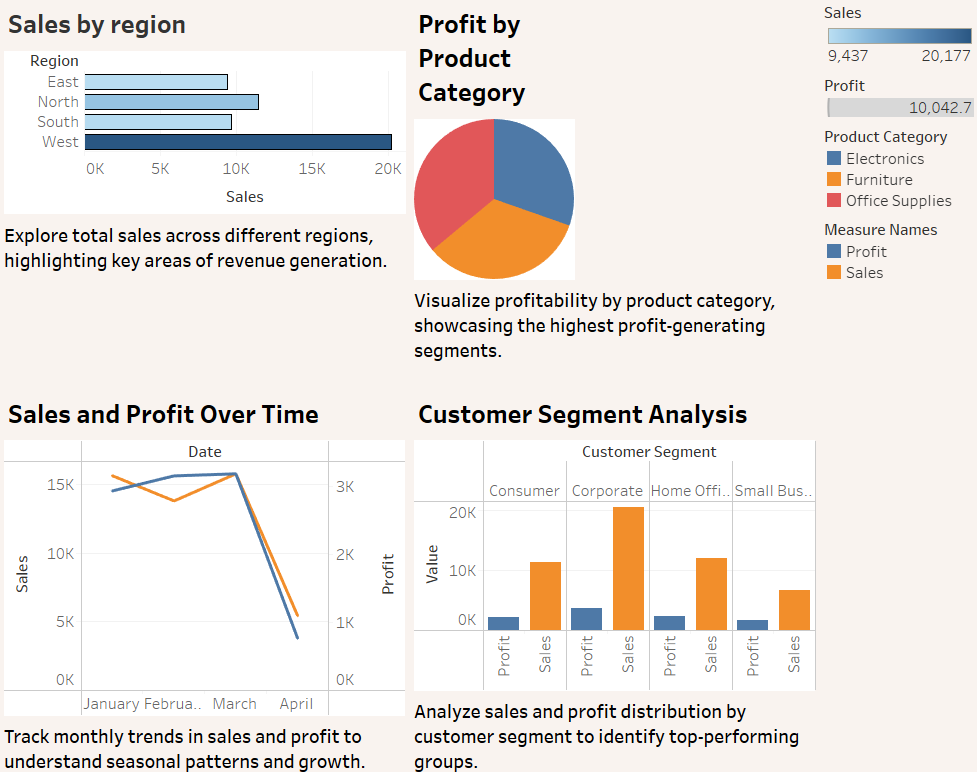

The dashboard page shown, as its layout file describes it:
{"tool":"tableau","page":{"name":"Dashboard 1","canvas":[1000,800],"ordinal":0},"visuals":[{"type":"worksheet","title":"Sheet 1","mark":"Automatic","rows":["Region"],"cols":["Sales"],"box":[8,8,412,392]},{"type":"worksheet","title":"Sheet 2","mark":"Pie","box":[420,8,412,392]},{"type":"legend","title":"Sheet 1","param":"[federated.18z0w2z0rbqrfo18hsgvm13djvns].[sum:Sales:qk]","box":[832,8,160,73]},{"type":"legend","title":"Sheet 2","param":"[federated.18z0w2z0rbqrfo18hsgvm13djvns].[sum:Profit:qk]","box":[832,81,160,51]},{"type":"legend","title":"Sheet 2","param":"[federated.18z0w2z0rbqrfo18hsgvm13djvns].[none:Product Category:nk]","box":[832,132,160,93]},{"type":"legend","title":"Sheet 3","param":"[federated.18z0w2z0rbqrfo18hsgvm13djvns].[:Measure Names]","box":[832,225,160,72]},{"type":"worksheet","title":"Sheet 3","mark":"Line","rows":["Sales","Profit"],"cols":["Date"],"box":[8,400,412,392]},{"type":"worksheet","title":"Sheet 4","mark":"Automatic","cols":["Customer Segment"],"box":[420,400,412,392]}]}

Visuals, with their boxes in screenshot pixels (x1, y1, x2, y2), scaled from the page's 1000x800 canvas onto the 977x772 screenshot:
"Sheet 1" worksheet: x1=8, y1=8, x2=410, y2=386
"Sheet 2" worksheet (Pie marks): x1=410, y1=8, x2=813, y2=386
"Sheet 1" legend: x1=813, y1=8, x2=969, y2=78
"Sheet 2" legend: x1=813, y1=78, x2=969, y2=127
"Sheet 2" legend: x1=813, y1=127, x2=969, y2=217
"Sheet 3" legend: x1=813, y1=217, x2=969, y2=287
"Sheet 3" worksheet (Line marks): x1=8, y1=386, x2=410, y2=764
"Sheet 4" worksheet: x1=410, y1=386, x2=813, y2=764
